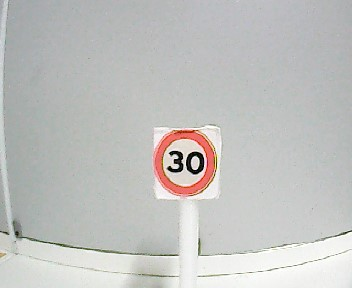30-bord: (155, 129, 217, 193)
